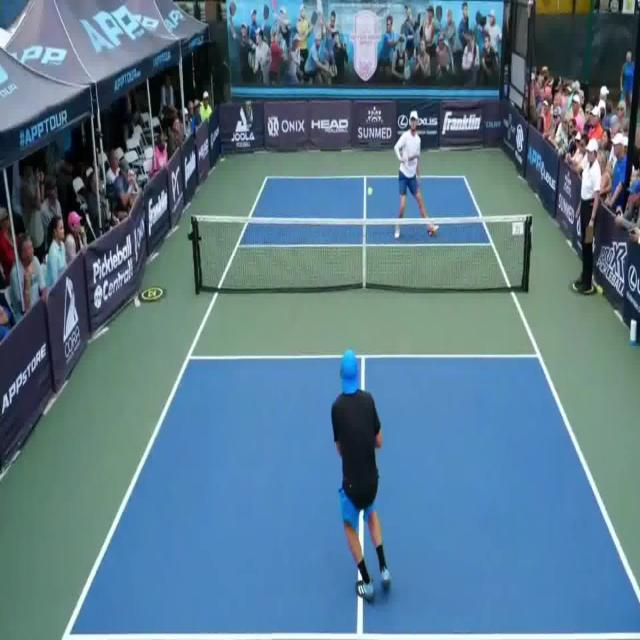ball: (367, 185, 373, 197)
